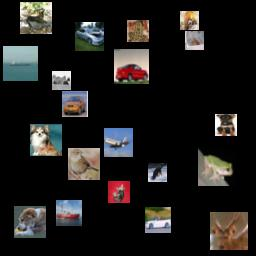airplane: (104, 128, 133, 157)
automobile: (114, 49, 149, 84), (75, 22, 104, 51), (62, 91, 88, 117), (145, 207, 171, 233)
bird: (68, 148, 100, 180)
cat: (14, 206, 46, 238), (20, 2, 52, 34), (108, 181, 130, 203), (185, 31, 204, 50), (52, 71, 71, 90)
deer: (210, 212, 248, 250), (180, 11, 199, 30)
dog: (30, 124, 62, 156), (215, 114, 237, 136), (148, 163, 167, 182)
frog: (198, 148, 236, 186), (127, 20, 149, 42)
ship: (3, 46, 38, 81), (56, 200, 82, 226)
